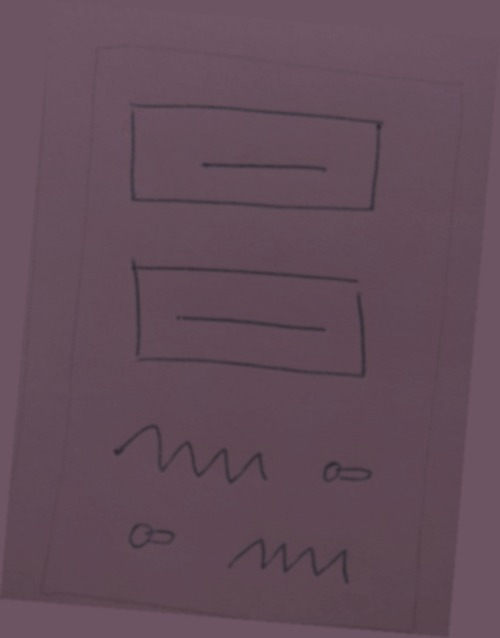button: (112, 85, 407, 234), (104, 249, 403, 395)
switch: (111, 510, 191, 563), (310, 451, 400, 498)
text: (101, 402, 283, 497), (217, 524, 359, 593)
